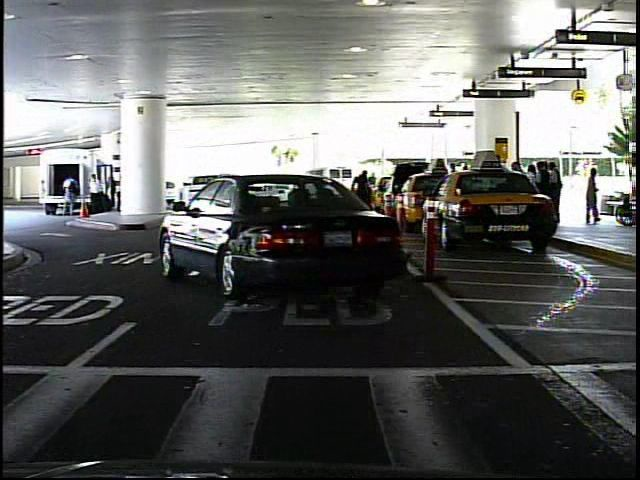person: (356, 165, 380, 220), (584, 163, 604, 227)
